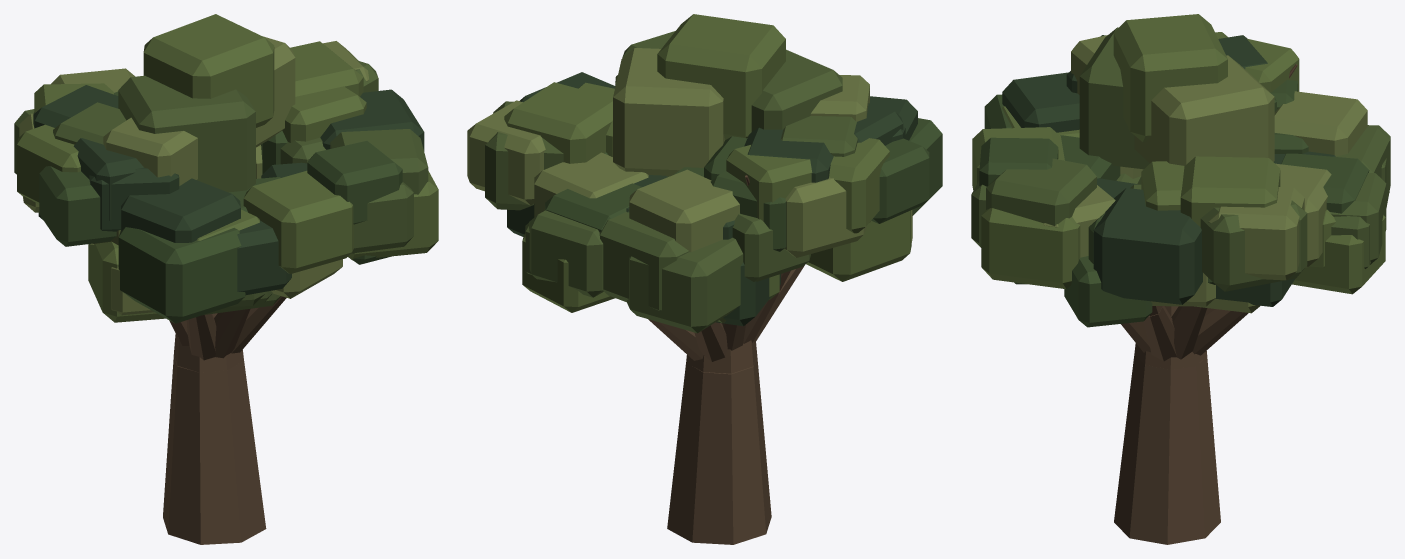
The model's file is oak_ancient_2.glb.
3 views of the same model, side by side, from view 1: azimuth 30°, elevation 25°; view 2: azimuth 150°, elevation 25°; view 3: azimuth 270°, elevation 25° (orthographic).
Parts seen in each view (by area): view 1: oak_ancient_2; view 2: oak_ancient_2; view 3: oak_ancient_2.
Boxes of the visible parts, left/top/right/bottom form: oak_ancient_2: left=14, top=14, right=438, bottom=544; oak_ancient_2: left=467, top=14, right=942, bottom=544; oak_ancient_2: left=971, top=14, right=1390, bottom=544.
Bounding box in the file's own units: 19.57 × 24 × 18.77.
